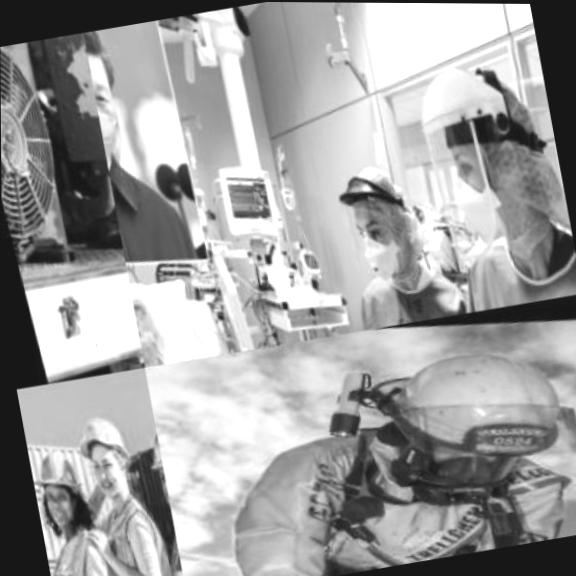safety_vest: (199, 365, 576, 576), (437, 217, 576, 315), (85, 484, 181, 576), (41, 513, 126, 576)
